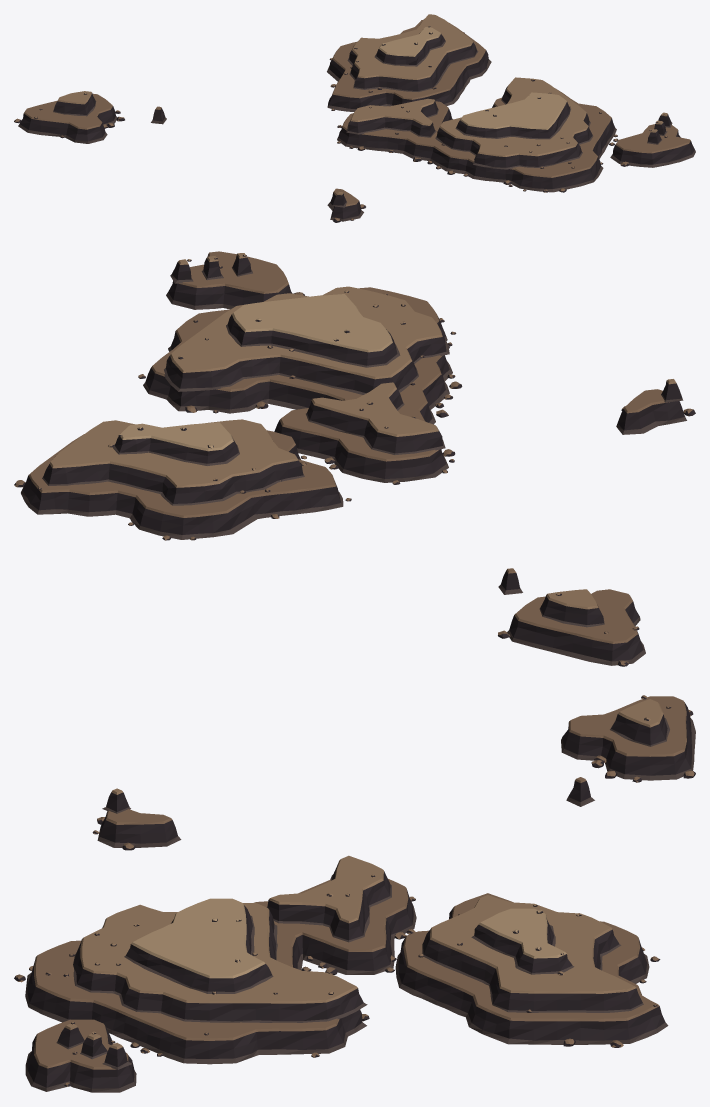
Rendered from demo_massif.glb.
3 views of the same model, one above another, from view 1: azimuth 30°, elevation 25°; view 2: azimuth 150°, elevation 25°; view 3: azimuth 270°, elevation 25° (orthographic). The views are drawn at different scales.
Parts seen in each view (by area): view 1: massif__M_Cliff_Licorice, massif__M_Cliff_Crust_T1, massif__M_Cliff_Crust_T0, massif__M_Cliff_Talus, massif__M_Cliff_Crust_T2; view 2: massif__M_Cliff_Licorice, massif__M_Cliff_Crust_T1, massif__M_Cliff_Crust_T0, massif__M_Cliff_Talus, massif__M_Cliff_Crust_T2; view 3: massif__M_Cliff_Licorice, massif__M_Cliff_Crust_T1, massif__M_Cliff_Crust_T0, massif__M_Cliff_Talus, massif__M_Cliff_Crust_T2.
Part boxes in pixels (x1=…): massif__M_Cliff_Licorice: x1=19, y1=33, x2=694, y2=218; massif__M_Cliff_Crust_T1: x1=57, y1=14, x2=667, y2=195; massif__M_Cliff_Crust_T0: x1=23, y1=20, x2=690, y2=206; massif__M_Cliff_Talus: x1=18, y1=40, x2=695, y2=221; massif__M_Cliff_Crust_T2: x1=378, y1=27, x2=566, y2=129; massif__M_Cliff_Licorice: x1=22, y1=254, x2=684, y2=661; massif__M_Cliff_Crust_T1: x1=49, y1=253, x2=676, y2=609; massif__M_Cliff_Crust_T0: x1=28, y1=251, x2=669, y2=643; massif__M_Cliff_Talus: x1=21, y1=267, x2=686, y2=665; massif__M_Cliff_Crust_T2: x1=120, y1=294, x2=392, y2=451; massif__M_Cliff_Licorice: x1=27, y1=702, x2=691, y2=1088; massif__M_Cliff_Crust_T1: x1=65, y1=699, x2=663, y2=1049; massif__M_Cliff_Crust_T0: x1=34, y1=696, x2=686, y2=1069; massif__M_Cliff_Talus: x1=25, y1=718, x2=695, y2=1092; massif__M_Cliff_Crust_T2: x1=131, y1=898, x2=566, y2=978.
Bounding box in the file's own units: 38.75 × 2.71 × 29.43.
